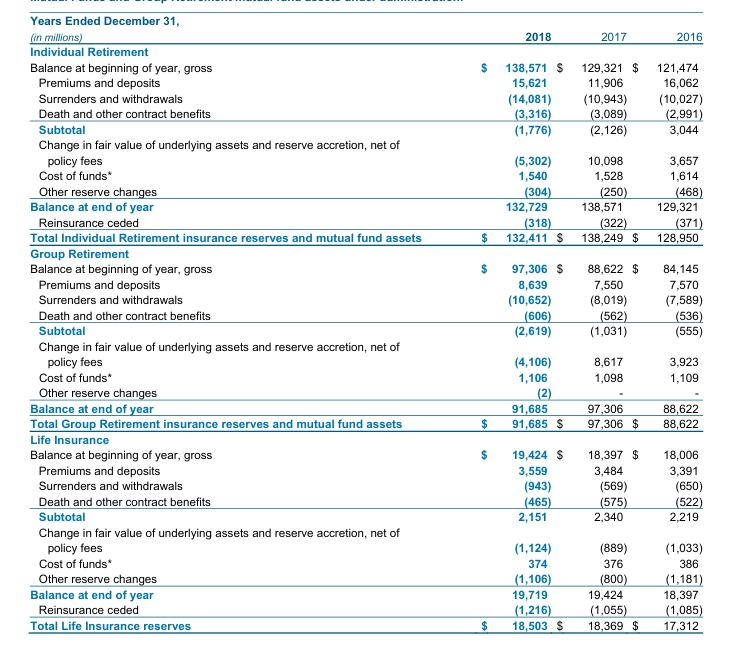table: (29, 28, 701, 631)
table column: (29, 28, 450, 631), (450, 28, 553, 631), (553, 28, 628, 631), (628, 28, 701, 631)
table column header: (29, 28, 701, 43)
table projected row header: (29, 244, 701, 260), (29, 337, 701, 353), (29, 430, 701, 446), (29, 523, 701, 539), (29, 43, 701, 58), (29, 136, 701, 151)
table row: (29, 58, 701, 74), (29, 89, 701, 105), (29, 120, 701, 136), (29, 151, 701, 167), (29, 182, 701, 198), (29, 213, 701, 229), (29, 244, 701, 260), (29, 275, 701, 291), (29, 306, 701, 322), (29, 337, 701, 353), (29, 368, 701, 384), (29, 399, 701, 415), (29, 430, 701, 446), (29, 461, 701, 477), (29, 492, 701, 508), (29, 523, 701, 539), (29, 554, 701, 570), (29, 585, 701, 601), (29, 28, 701, 43), (29, 43, 701, 58), (29, 74, 701, 89), (29, 105, 701, 120), (29, 136, 701, 151), (29, 167, 701, 182), (29, 198, 701, 213), (29, 229, 701, 244), (29, 260, 701, 275), (29, 291, 701, 306), (29, 322, 701, 337), (29, 353, 701, 368), (29, 384, 701, 399), (29, 415, 701, 430), (29, 446, 701, 461), (29, 477, 701, 492), (29, 508, 701, 523), (29, 539, 701, 554), (29, 570, 701, 585), (29, 601, 701, 616), (29, 616, 701, 631)
